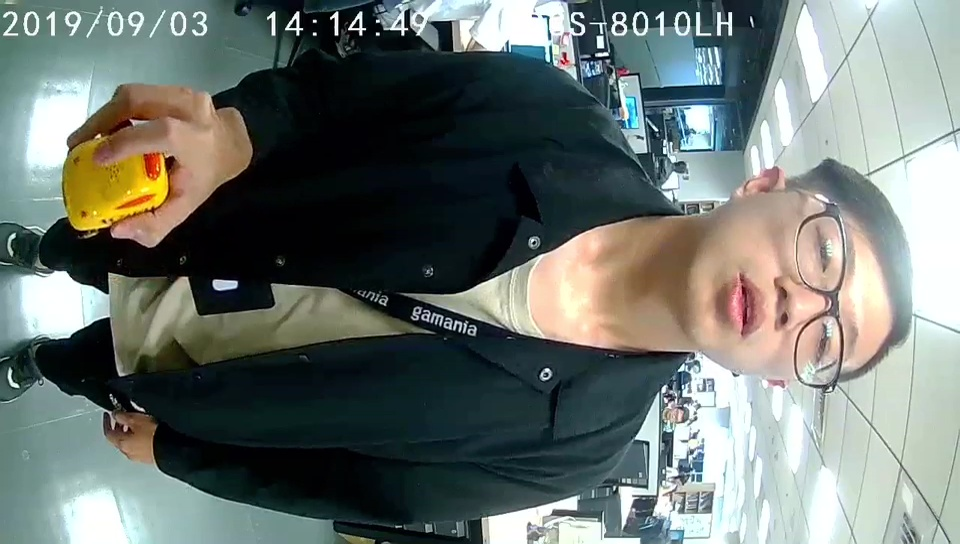car: (61, 134, 166, 231)
